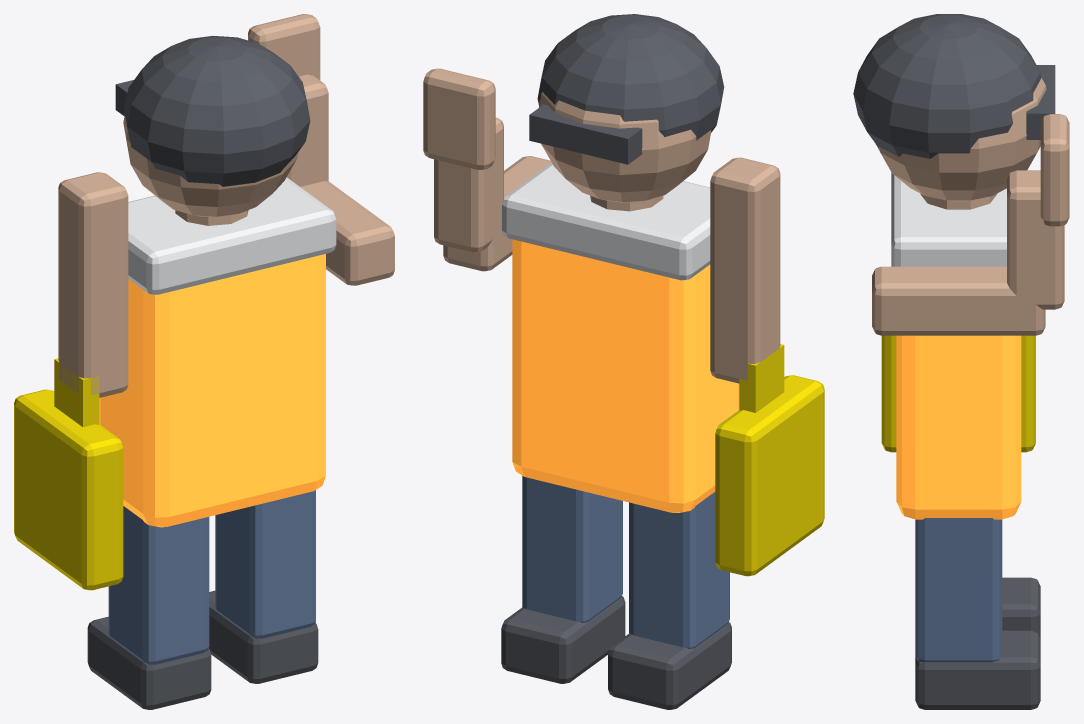
The model's file is pedestrian_jaywalker.glb.
3 renders of one model, left to right at view 1: azimuth 30°, elevation 25°; view 2: azimuth 150°, elevation 25°; view 3: azimuth 270°, elevation 25°, orthographic.
Visible parts, largest first — view 1: Ped_Torso, Arm_L, Leg_L, Leg_R, Arm_R; view 2: Ped_Torso, Arm_L, Leg_R, Leg_L, Arm_R; view 3: Ped_Torso, Arm_R, Leg_R, Arm_L, Leg_L.
Boxes of the visible parts, box(x1,y1,x2,y2) form: Ped_Torso: box(99, 36, 336, 527); Arm_L: box(14, 172, 128, 590); Leg_L: box(87, 506, 211, 709); Leg_R: box(209, 490, 318, 683); Arm_R: box(248, 14, 394, 285); Ped_Torso: box(502, 14, 739, 512); Arm_L: box(710, 157, 824, 576); Leg_R: box(501, 476, 625, 683); Leg_L: box(608, 492, 731, 709); Arm_R: box(423, 68, 551, 271); Ped_Torso: box(853, 14, 1055, 519); Arm_R: box(872, 114, 1069, 335); Leg_R: box(915, 518, 1040, 709); Arm_L: box(881, 335, 1035, 452); Leg_L: box(1002, 577, 1040, 638).
Bounding box in the file's own units: 0.77 × 1.48 × 0.4489.
